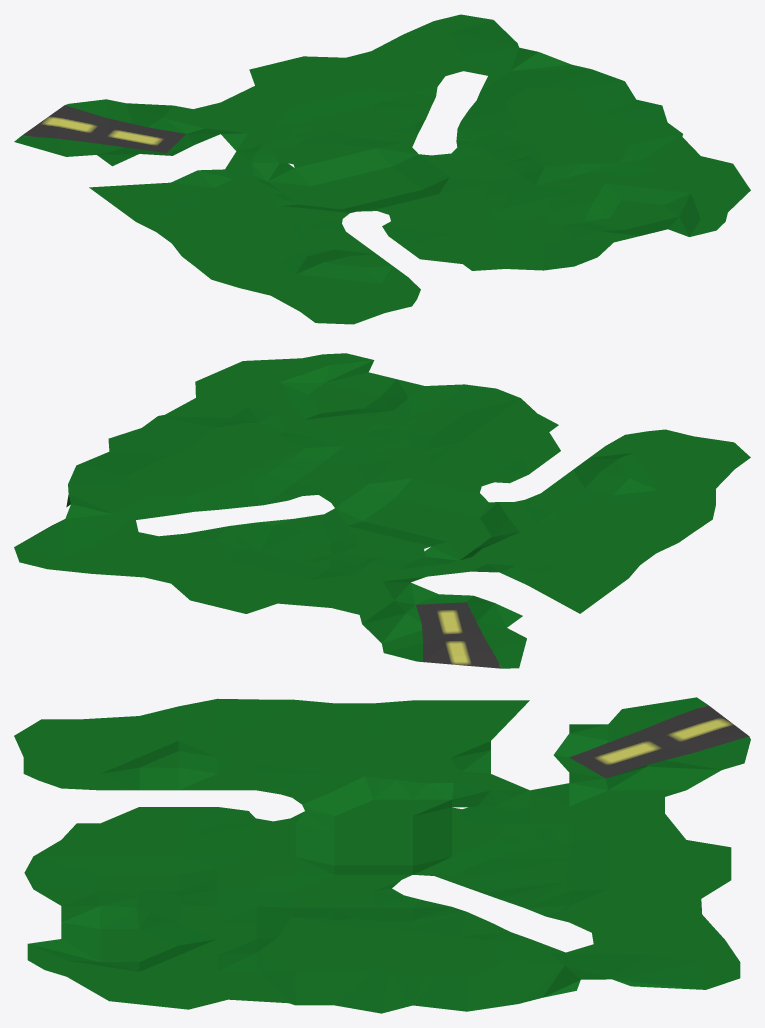
File: Mapa Estacion Batalla Suelo.fbx
The picture shows the model from 3 angles, top to bottom: view 1: azimuth 30°, elevation 25°; view 2: azimuth 150°, elevation 25°; view 3: azimuth 270°, elevation 25°; orthographic projection. The views are drawn at different scales.
Parts seen in each view (by area): view 1: Zona1Batalla Suelo; view 2: Zona1Batalla Suelo; view 3: Zona1Batalla Suelo.
Boxes of the visible parts, x1,y1,x2,y2 form: Zona1Batalla Suelo: [14, 14, 750, 324]; Zona1Batalla Suelo: [14, 353, 750, 668]; Zona1Batalla Suelo: [14, 697, 750, 1013].
Bounding box in the file's own units: 36125 × 35371 × 874.
Materials: 2 (1 with a texture image).
